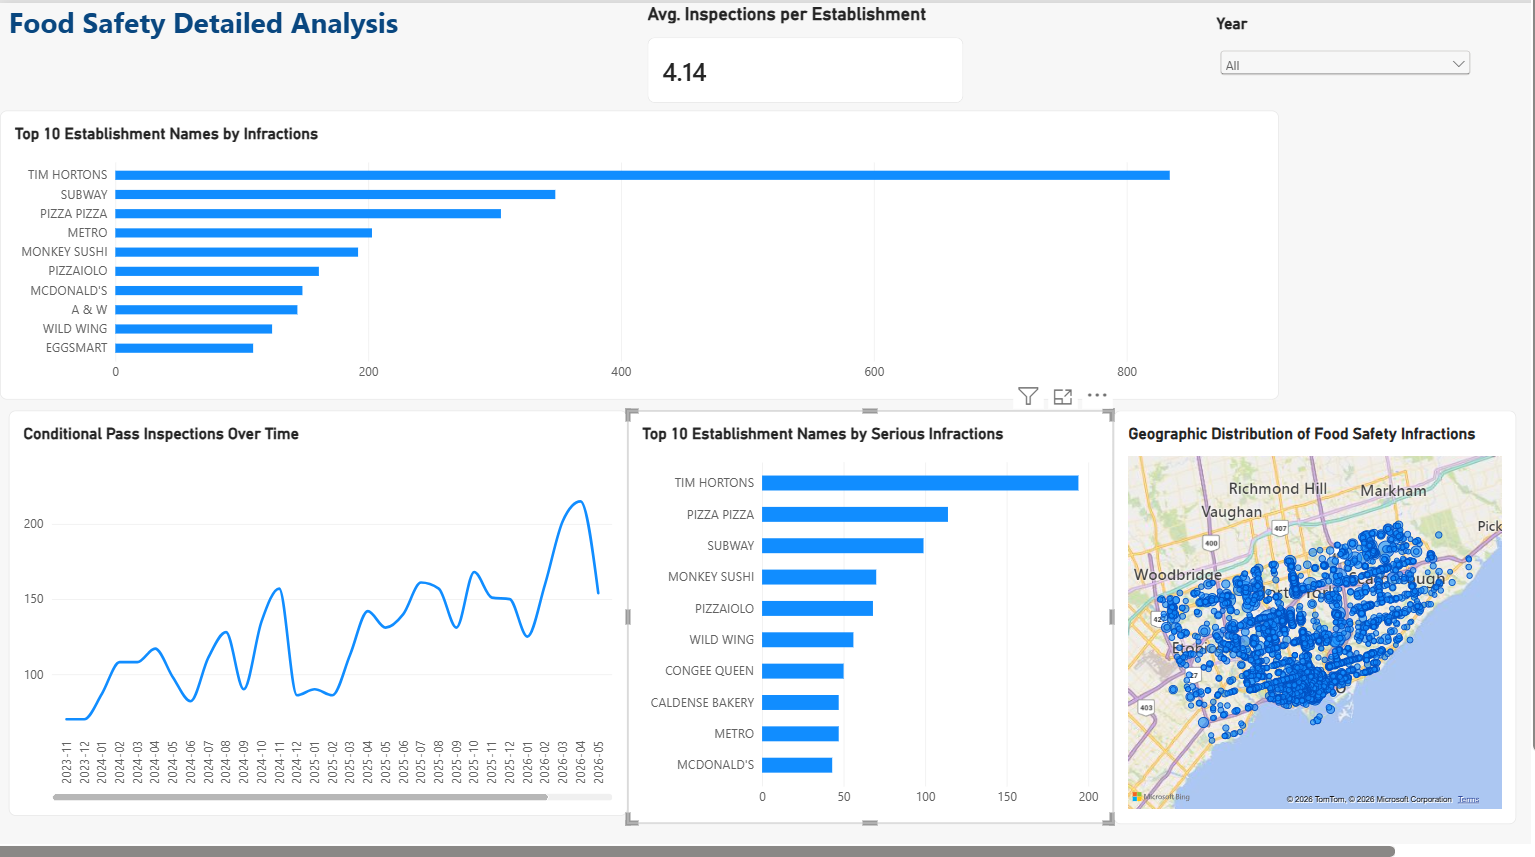

What the dashboard file says about the page in this screenshot:
{"tool":"powerbi","page":{"name":"Detailed Analysis","canvas":[1920,1080],"ordinal":1},"visuals":[{"type":"textbox","box":[10,0,808.3,81.7],"z":0},{"type":"clusteredBarChart","title":"Top 10 Establishment Names by Infractions","fields":{"Category":["FactInspections.estName"],"Y":["FactInspections.Total Infractions"]},"box":[0,122.9,1461.4,330],"z":1000},{"type":"cardVisual","title":"Avg. Inspections per Establishment","fields":{"Data":["FactInspections.Inspections per Establishment"]},"box":[740,0,361.7,115],"z":2000},{"type":"lineChart","title":"Conditional Pass Inspections Over Time","fields":{"Category":["DimDate.YearMonth"],"Y":["FactInspections.Conditional Pass Inspections"]},"box":[10,465.7,707.1,462.9],"z":3000},{"type":"slicer","title":"Year","fields":{"Values":["DimDate.Year"]},"box":[1390,12.9,295,110],"z":4000},{"type":"clusteredBarChart","title":"Top 10 Establishment Names by Serious Infractions","fields":{"Category":["FactInspections.estName"],"Y":["FactInspections.Serious Infractions"]},"box":[717.1,465.7,555.7,472.9],"z":5000},{"type":"map","title":"Geographic Distribution of Food Safety Infractions","fields":{"Size":["FactInspections.Total Infractions"],"X":["FactInspections.longitude"],"Y":["FactInspections.latitude"]},"box":[1272.9,465.7,460,472.9],"z":6000}]}

Visuals, with their boxes in screenshot pixels (x1, y1, x2, y2), scaled from the page's 1920x1080 canvas onto the 1535x857 screenshot:
textbox: x1=8, y1=0, x2=654, y2=65
"Top 10 Establishment Names by Infractions" clusteredBarChart: x1=0, y1=98, x2=1168, y2=359
"Avg. Inspections per Establishment" cardVisual: x1=592, y1=0, x2=881, y2=91
"Conditional Pass Inspections Over Time" lineChart: x1=8, y1=370, x2=573, y2=737
"Year" slicer: x1=1111, y1=10, x2=1347, y2=98
"Top 10 Establishment Names by Serious Infractions" clusteredBarChart: x1=573, y1=370, x2=1018, y2=745
"Geographic Distribution of Food Safety Infractions" map: x1=1018, y1=370, x2=1385, y2=745
